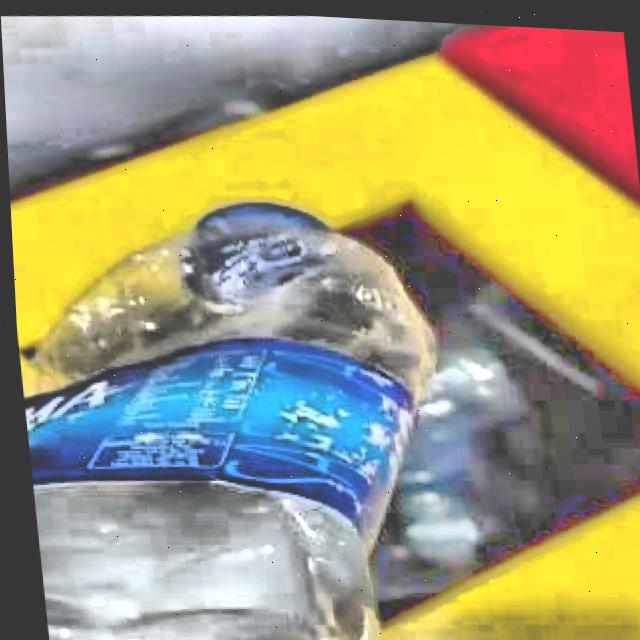plastic: (17, 201, 431, 640)
